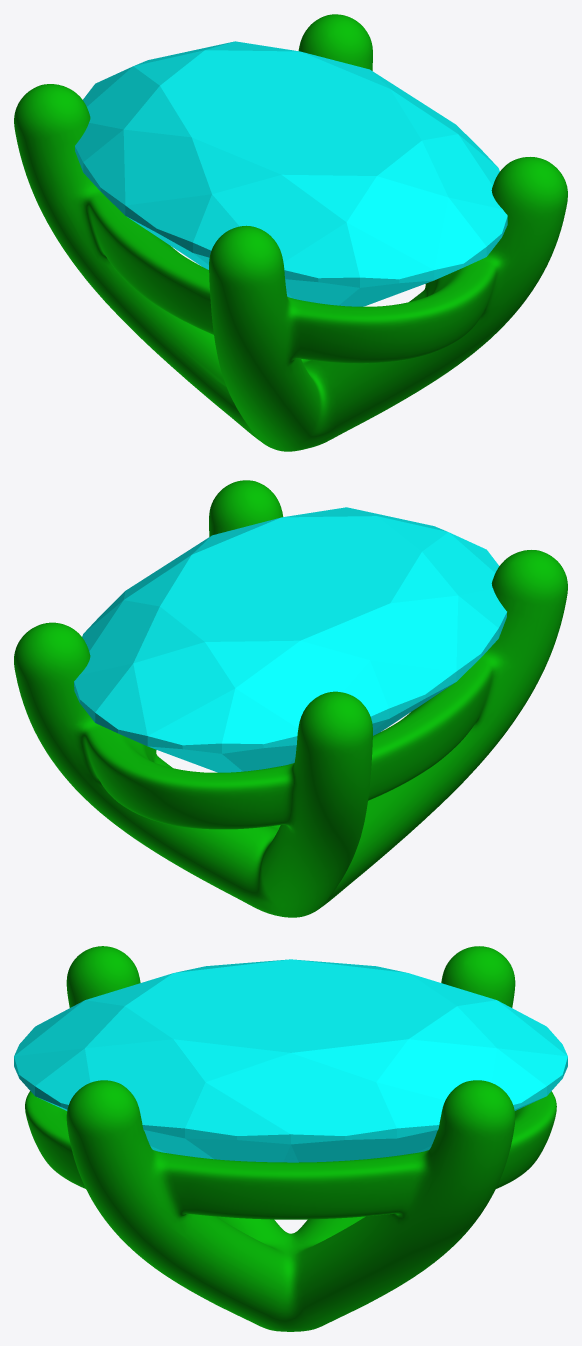
3 views of the same model, one above another, from view 1: azimuth 30°, elevation 25°; view 2: azimuth 150°, elevation 25°; view 3: azimuth 270°, elevation 25° (orthographic). The views are drawn at different scales.
Visible parts, largest first — view 1: Diamond_Oval, Metal01; view 2: Diamond_Oval, Metal01; view 3: Diamond_Oval, Metal01.
Part boxes in pixels (left/top/right/bottom): Diamond_Oval: left=75, top=41, right=507, bottom=306; Metal01: left=14, top=14, right=567, bottom=451; Diamond_Oval: left=74, top=507, right=506, bottom=772; Metal01: left=14, top=480, right=567, bottom=917; Diamond_Oval: left=14, top=959, right=567, bottom=1162; Metal01: left=25, top=946, right=556, bottom=1331.
Size of the model in its own units: 6.52 by 5.85 by 9.29.
